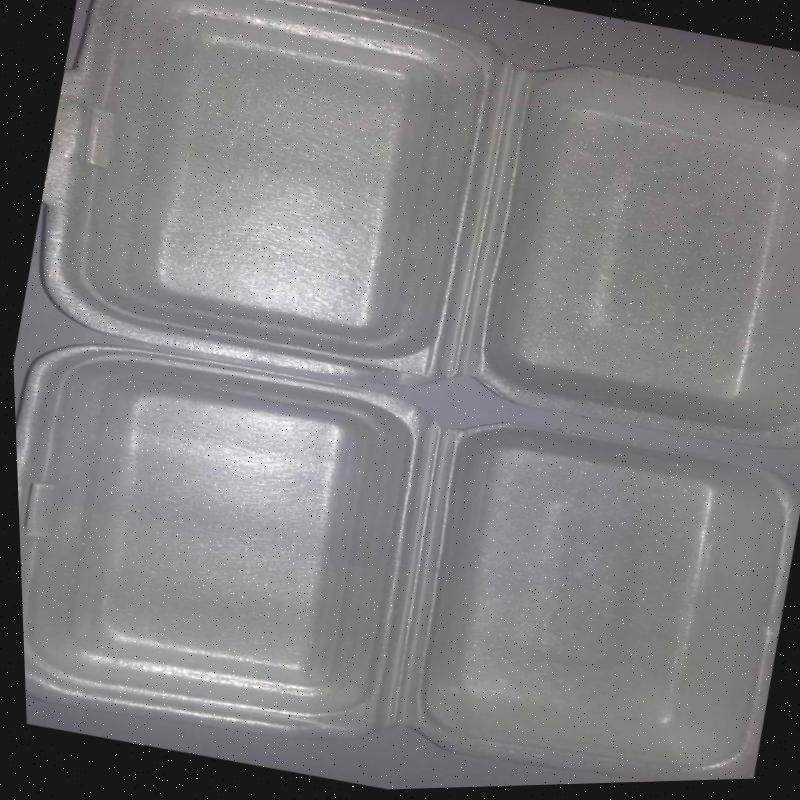styrofoam containers: (36, 0, 529, 387), (15, 343, 449, 739), (413, 423, 800, 781), (472, 65, 800, 449)
